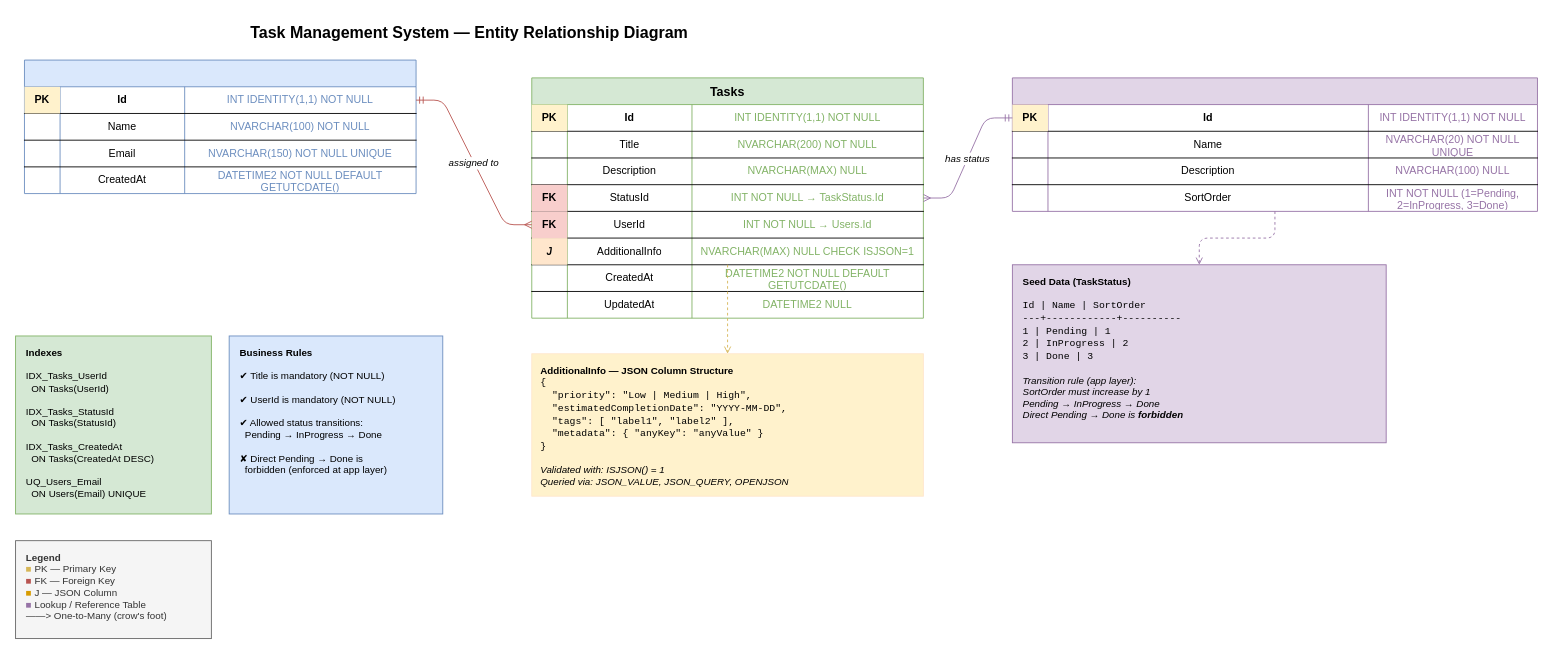
The diagram is 1553 pixels wide and 656 high, and some of its shapes have lost their labels. The box of each missing label's shape, as (x1, y1, x2, y2) in pixels:
TaskStatus: (1011, 77, 1537, 211)
Users: (24, 59, 416, 194)
